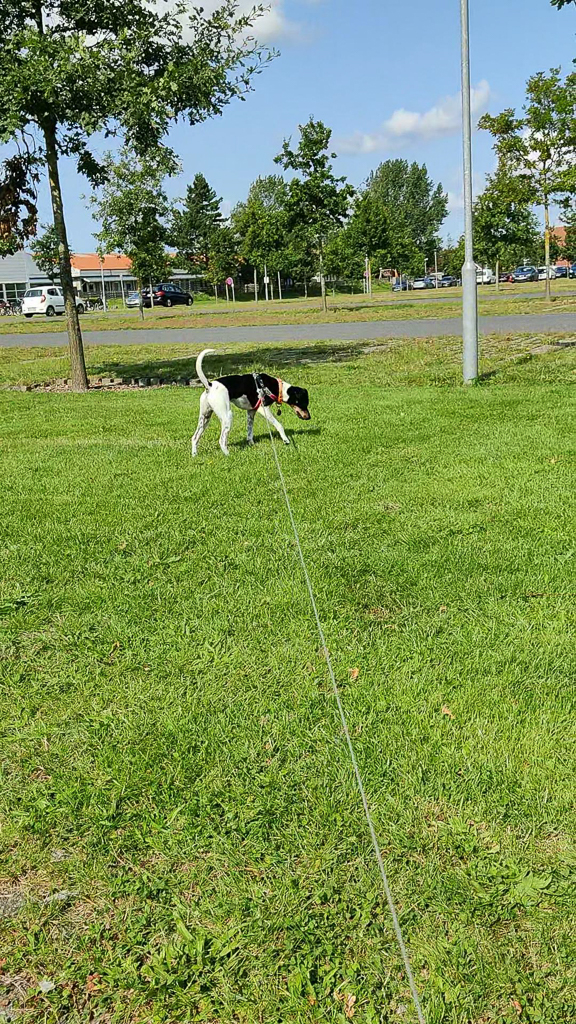Dog: (182, 343, 320, 463)
